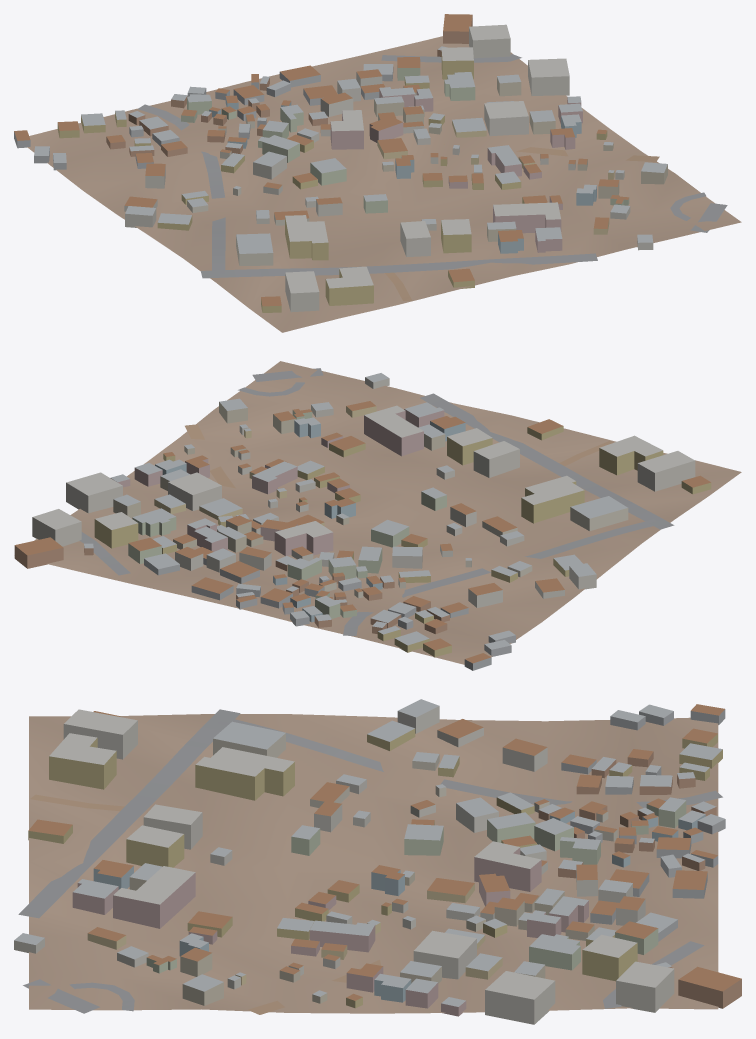
3 views of the same model, one above another, from view 1: azimuth 30°, elevation 25°; view 2: azimuth 150°, elevation 25°; view 3: azimuth 270°, elevation 25° (orthographic). The views are drawn at different scales.
Parts seen in each view (by area): view 1: Lo; view 2: Lo; view 3: Lo.
Part boxes in pixels (x1=…): Lo: x1=14, y1=14, x2=741, y2=332; Lo: x1=14, y1=361, x2=741, y2=670; Lo: x1=14, y1=699, x2=741, y2=1024.
Bounding box in the file's own units: 272 × 14.51 × 270.
